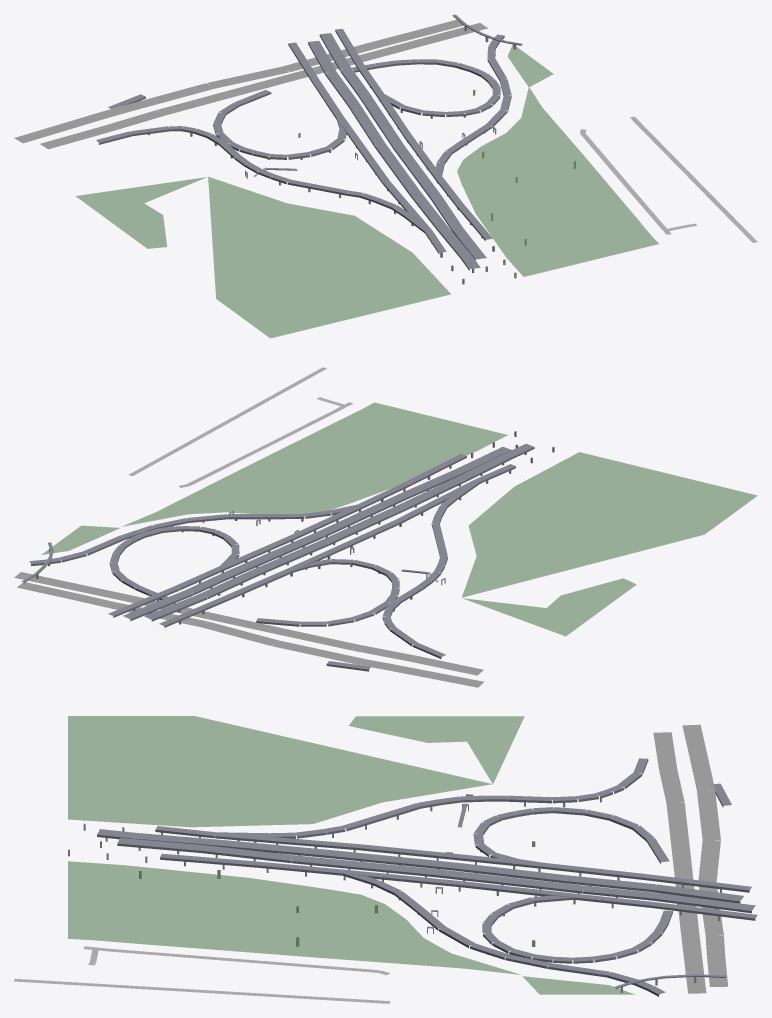
3 views of the same model, one above another, from view 1: azimuth 30°, elevation 25°; view 2: azimuth 150°, elevation 25°; view 3: azimuth 270°, elevation 25° (orthographic). The views are drawn at different scales.
Size of the model in its own units: 517 by 11.03 by 567.
